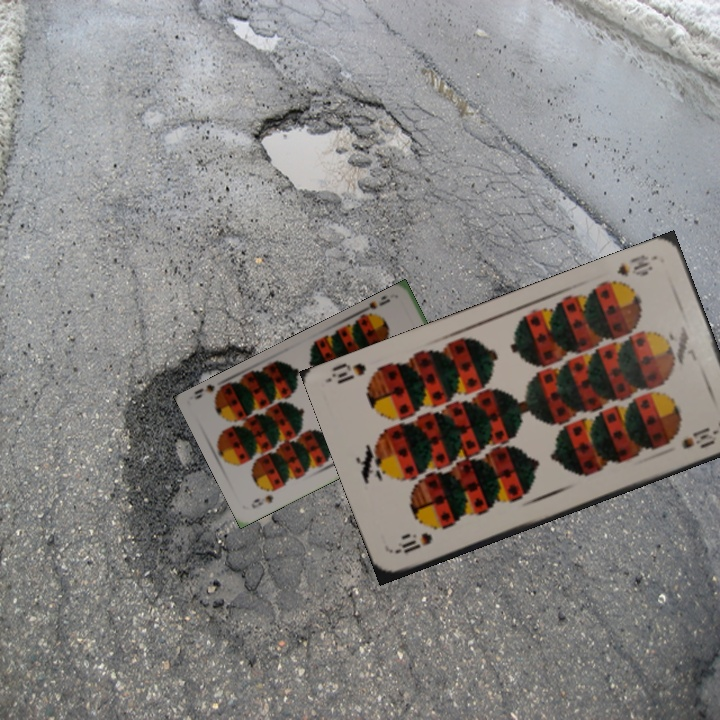S10: (613, 250, 656, 280), (393, 529, 435, 556)
S9: (360, 293, 393, 322), (247, 491, 276, 511)
